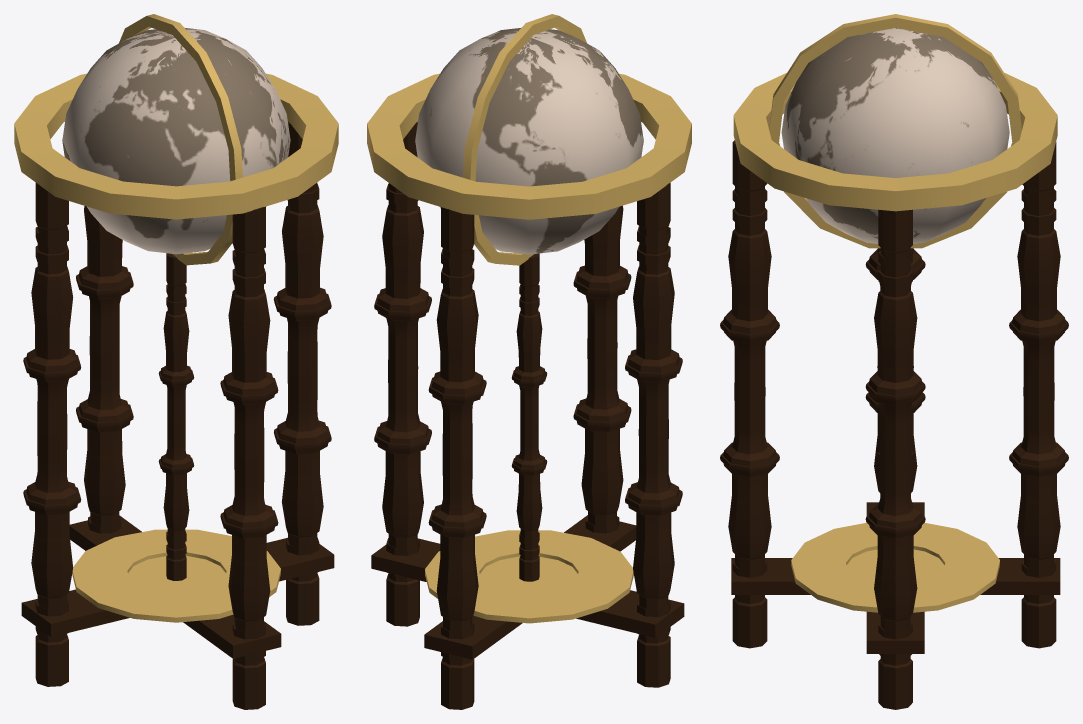
File: Globefix.fbx
3 renders of one model, left to right at view 1: azimuth 30°, elevation 25°; view 2: azimuth 150°, elevation 25°; view 3: azimuth 270°, elevation 25°, orthographic.
Parts seen in each view (by area): view 1: polySurface46; view 2: polySurface46; view 3: polySurface46.
Boxes of the visible parts, bbox=[...] form: polySurface46: bbox=[14, 14, 338, 709]; polySurface46: bbox=[367, 14, 691, 709]; polySurface46: bbox=[720, 14, 1068, 709].
Size of the model in its own units: 59.35 by 117 by 59.35.
